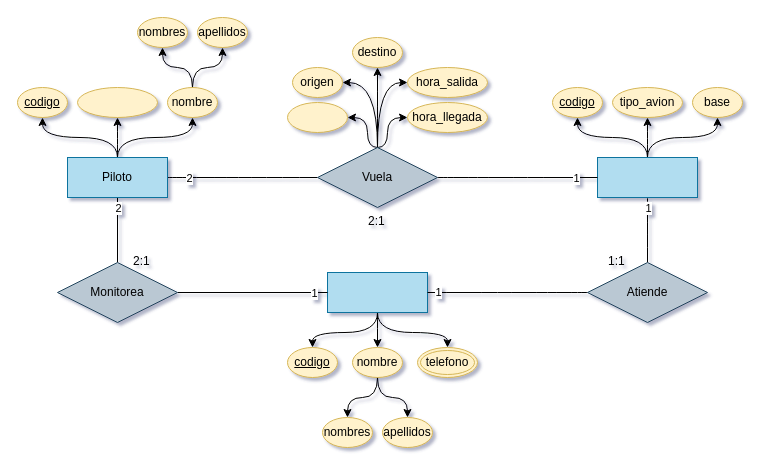
Image size: 766x471. Some labels were removed from this diagram. The shapes that lost their labels are listed below. From the top down, each one's centre as x and y in pixels, then its label:
At pixel 117 102: "horas_vuelo".
At pixel 317 117: "id_vuelo".
At pixel 647 177: "Avión".
At pixel 377 292: "Tripulación".
